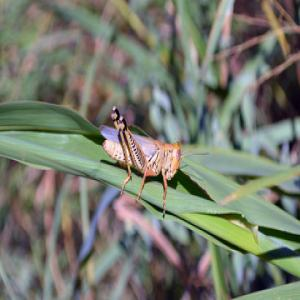locust: (100, 114, 197, 185)
